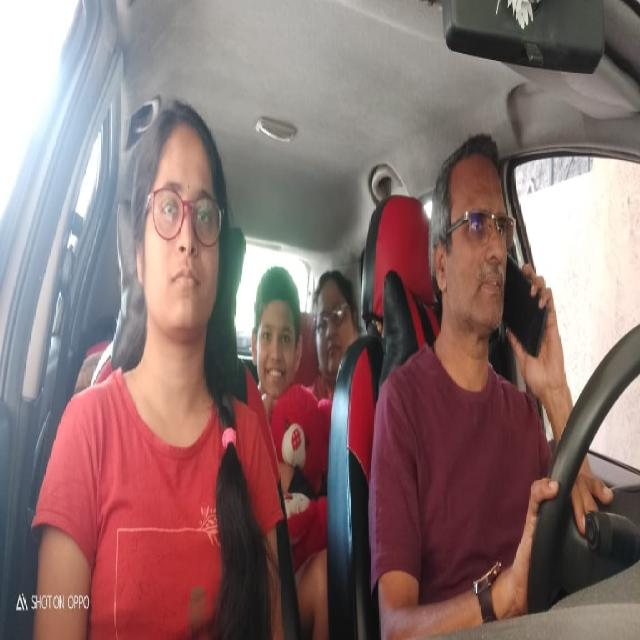mobile: (505, 258, 553, 372)
person: (132, 100, 228, 350), (427, 133, 510, 341), (251, 268, 304, 404), (313, 265, 360, 382)
